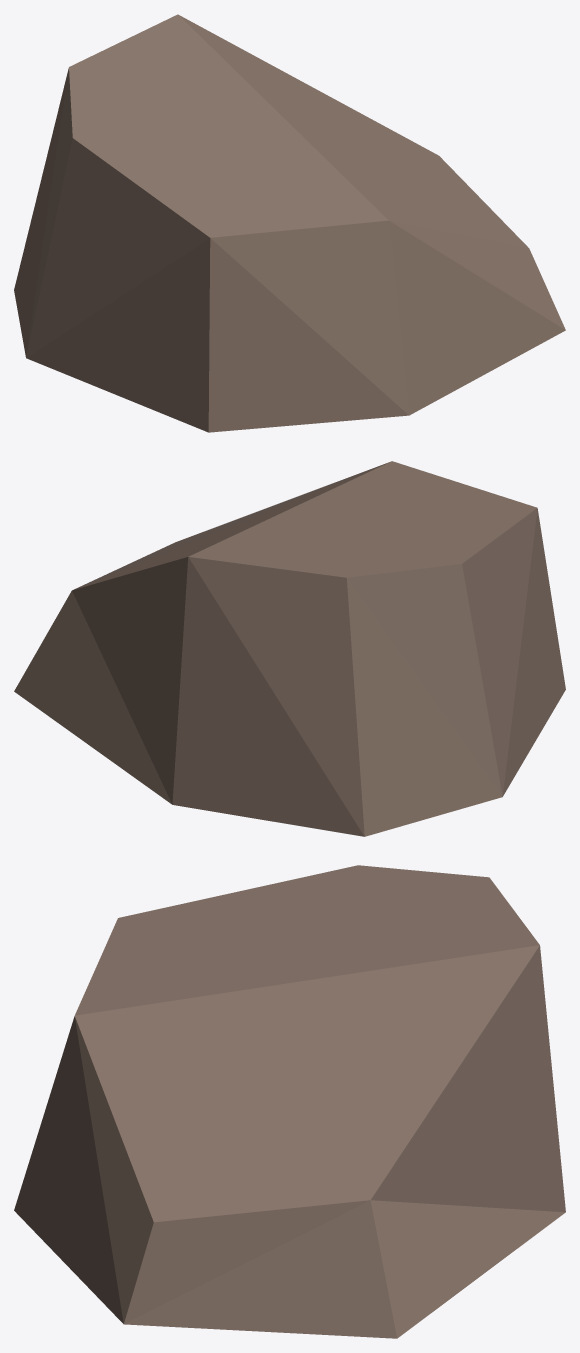
Rendered from TB_Env_Rock5_D.FBX.
3 views of the same model, one above another, from view 1: azimuth 30°, elevation 25°; view 2: azimuth 150°, elevation 25°; view 3: azimuth 270°, elevation 25° (orthographic). The views are drawn at different scales.
Visible parts, largest first — view 1: TB_Env_Rock5_D; view 2: TB_Env_Rock5_D; view 3: TB_Env_Rock5_D.
Part boxes in pixels (bbox=[...]): TB_Env_Rock5_D: bbox=[14, 14, 565, 432]; TB_Env_Rock5_D: bbox=[14, 461, 565, 836]; TB_Env_Rock5_D: bbox=[14, 865, 565, 1338].
Bounding box in the file's own units: 1.49 × 0.7212 × 1.36.
